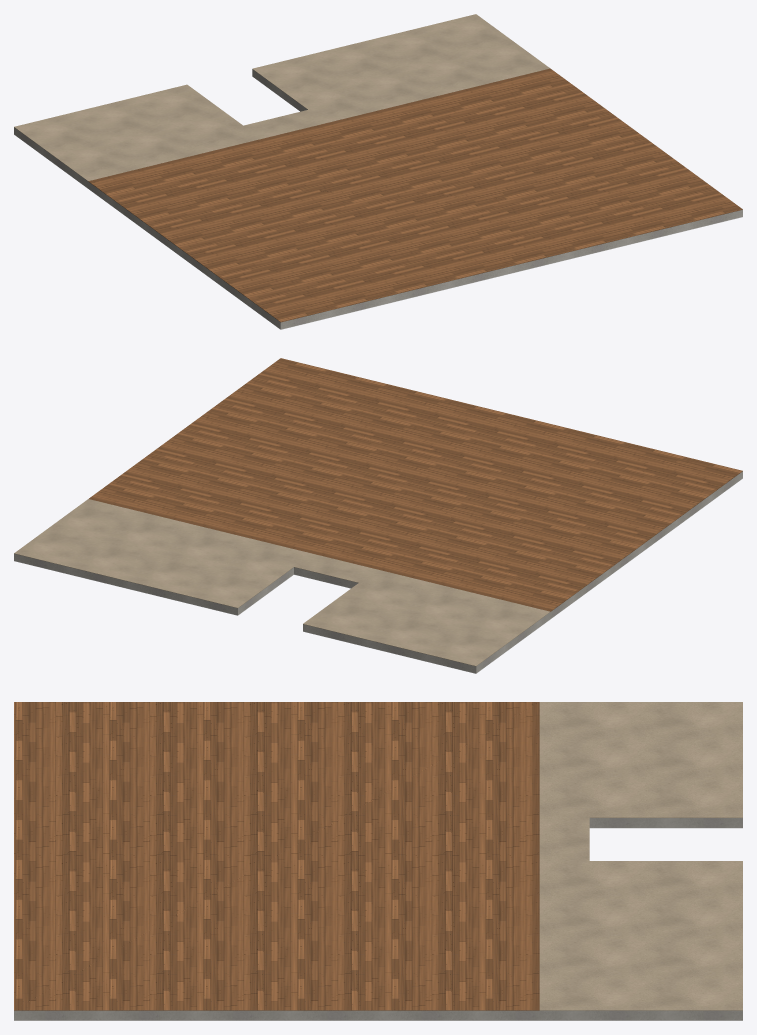
Rendered from floor_podium.glb.
3 renders of one model, top to bottom at view 1: azimuth 30°, elevation 25°; view 2: azimuth 150°, elevation 25°; view 3: azimuth 270°, elevation 25°, orthographic. The views are drawn at different scales.
Parts seen in each view (by area): view 1: floor_podium_wood, floor_podium_carpet2, floor_podium_concrete, floor_podium_ceil; view 2: floor_podium_wood, floor_podium_carpet2, floor_podium_concrete, floor_podium_ceil; view 3: floor_podium_wood, floor_podium_carpet2, floor_podium_concrete, floor_podium_ceil.
Boxes of the visible parts, x1,y1,x2,y2 form: floor_podium_wood: (88,68,742,322); floor_podium_carpet2: (14,14,550,181); floor_podium_concrete: (14,69,742,329); floor_podium_ceil: (14,76,742,329); floor_podium_wood: (89,358,742,611); floor_podium_carpet2: (14,499,550,666); floor_podium_concrete: (14,471,742,673); floor_podium_ceil: (14,478,742,673); floor_podium_wood: (14,702,539,1010); floor_podium_carpet2: (539,702,742,1010); floor_podium_concrete: (14,818,742,1020); floor_podium_ceil: (14,828,742,1020).
Size of the model in its own units: 15.5 by 0.256 by 15.5.
6 materials, 3 textured.
